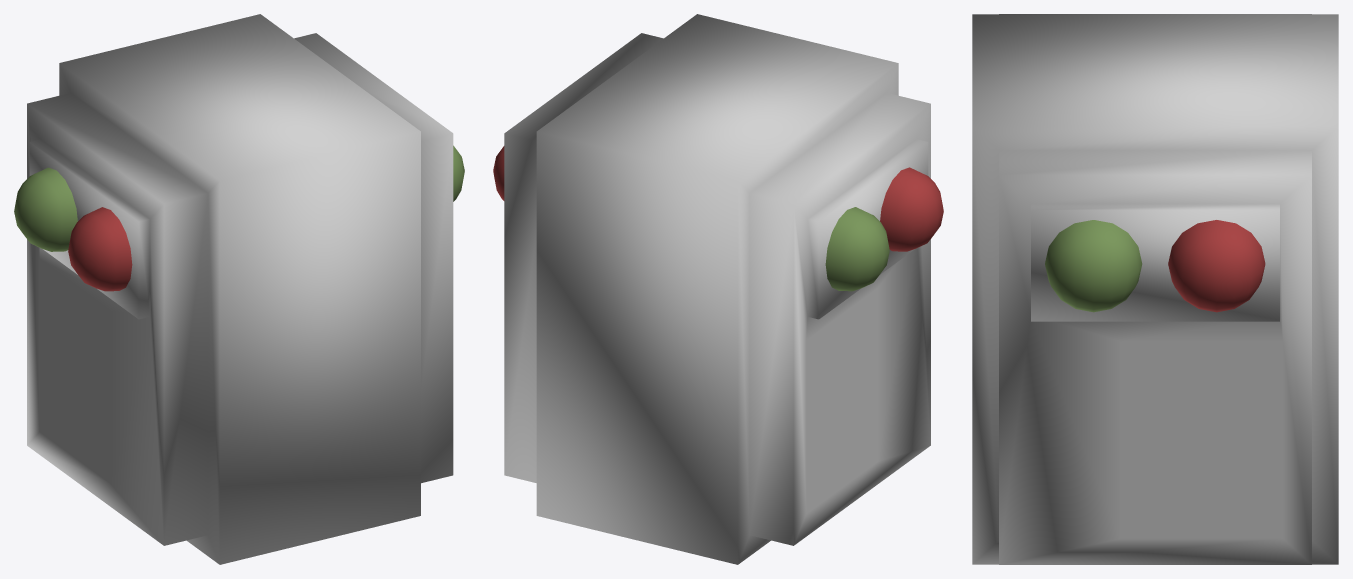
Rendered from SM_Polygonal_DoorLock.fbx.
3 renders of one model, left to right at view 1: azimuth 30°, elevation 25°; view 2: azimuth 150°, elevation 25°; view 3: azimuth 270°, elevation 25°, orthographic. The views are drawn at different scales.
Visible parts, largest first — view 1: SM_Polygonal_DoorLock; view 2: SM_Polygonal_DoorLock; view 3: SM_Polygonal_DoorLock.
Part boxes in pixels (box(x1,y1,x2,y2)): SM_Polygonal_DoorLock: box(14, 14, 464, 564); SM_Polygonal_DoorLock: box(493, 14, 943, 564); SM_Polygonal_DoorLock: box(972, 14, 1338, 564).
Bounding box in the file's own units: 30.38 × 21.91 × 28.92.
